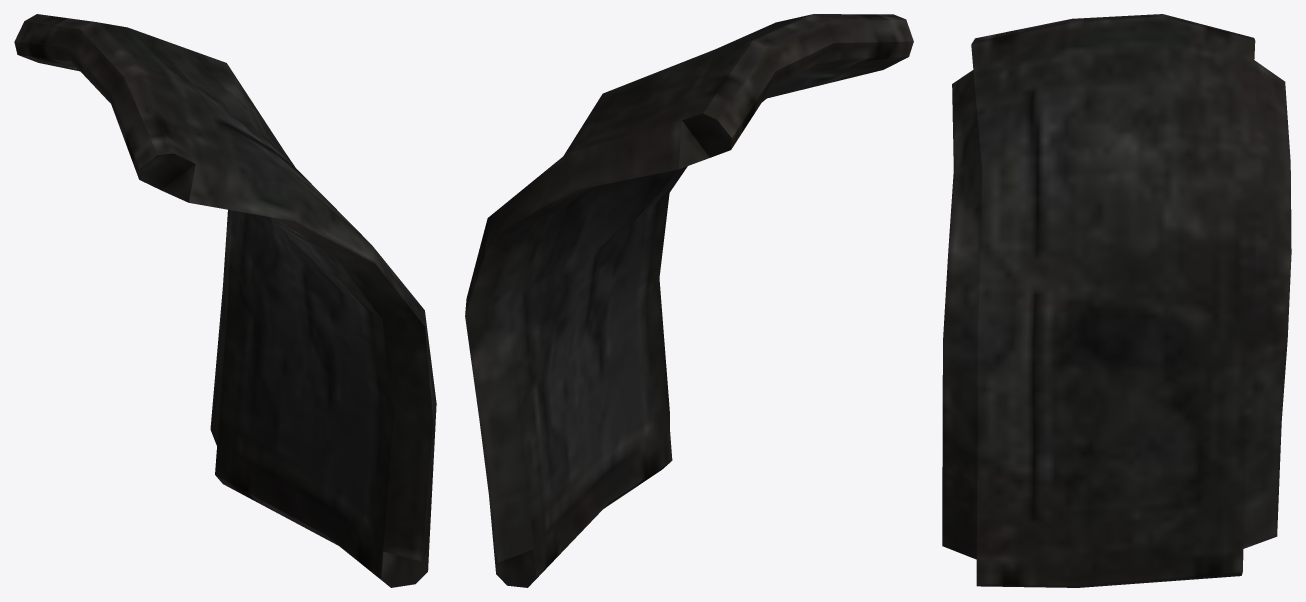
The model's file is wreck-plate-gd-v3.glb.
The picture shows the model from 3 angles, left to right: view 1: azimuth 30°, elevation 25°; view 2: azimuth 150°, elevation 25°; view 3: azimuth 270°, elevation 25°; orthographic projection. The views are drawn at different scales.
Visible parts, largest first — view 1: SM_Debris_11; view 2: SM_Debris_11; view 3: SM_Debris_11.
Boxes of the visible parts, x1,y1,x2,y2 form: SM_Debris_11: (14,14,436,587); SM_Debris_11: (465,14,913,587); SM_Debris_11: (942,14,1291,587).
Bounding box in the file's own units: 0.9637 × 1.64 × 1.08.
Materials: 1 (1 with a texture image).
